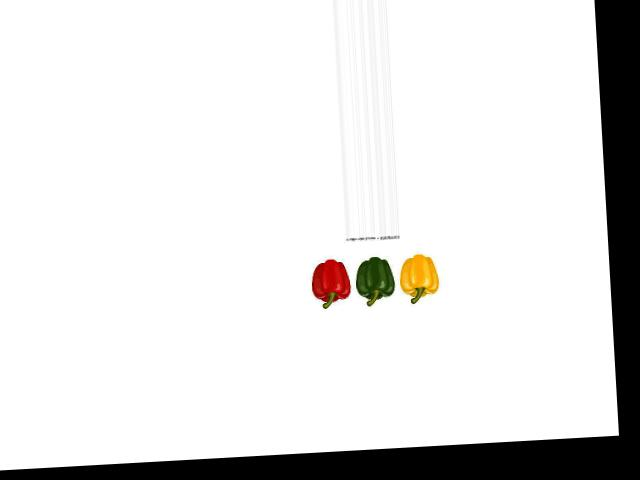bell_pepper: (395, 249, 442, 303)
